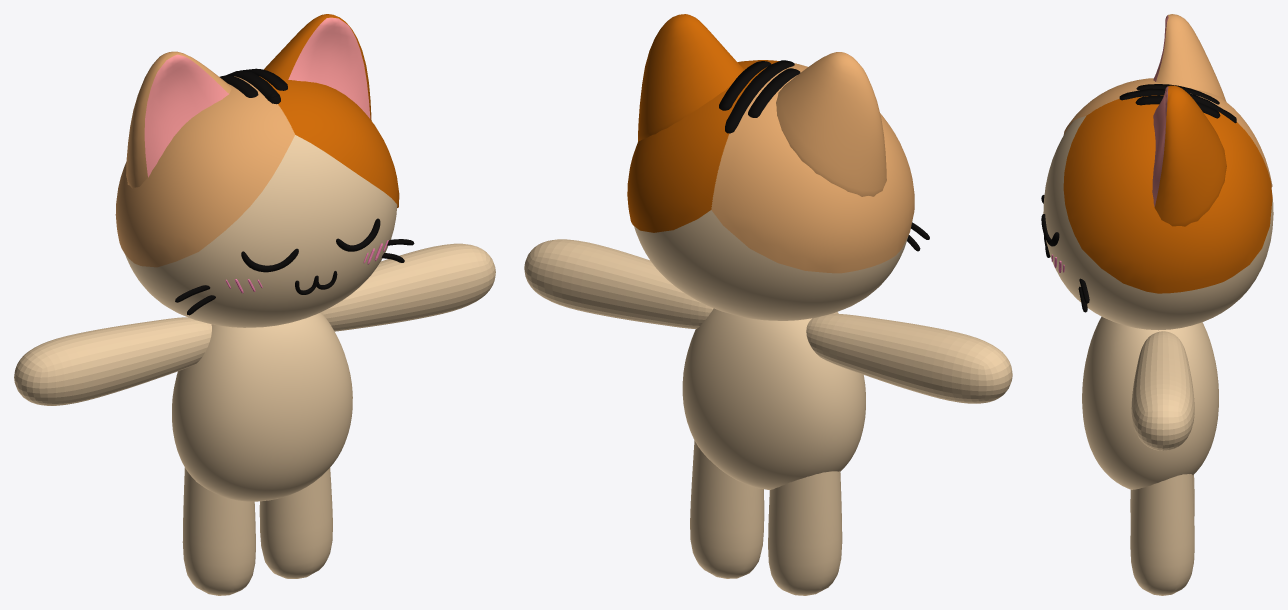
File: Gojil_The_Meow.fbx
3 renders of one model, left to right at view 1: azimuth 30°, elevation 25°; view 2: azimuth 150°, elevation 25°; view 3: azimuth 270°, elevation 25°, orthographic. The views are drawn at different scales.
Parts seen in each view (by area): view 1: body, head, Cube.001, head.006, legs, ears.001, head.007, ears, ears.002, eyes, Cube.004, head.003; view 2: body, Cube.001, head.006, legs, head, ears, head.007, ears.002, head.003, head.001, head.004; view 3: head.007, body, head, legs, ears.002, Cube.001, ears, head.006, ears.001, head.003, head.004, head.001.
Boxes of the visible parts, <box> form: body: <box>172,312,352,501</box>; head: <box>125,135,397,327</box>; Cube.001: <box>14,243,495,405</box>; head.006: <box>115,76,295,267</box>; legs: <box>182,467,332,595</box>; ears.001: <box>144,17,370,177</box>; head.007: <box>259,76,399,207</box>; ears: <box>126,51,231,188</box>; ears.002: <box>264,14,371,120</box>; eyes: <box>241,218,380,272</box>; Cube.004: <box>175,239,414,315</box>; head.003: <box>225,70,280,104</box>; body: <box>682,308,865,489</box>; Cube.001: <box>524,239,1012,403</box>; head.006: <box>711,63,914,273</box>; legs: <box>690,440,842,595</box>; head: <box>634,210,908,320</box>; ears: <box>776,52,886,196</box>; head.007: <box>627,60,796,232</box>; ears.002: <box>638,14,744,141</box>; head.003: <box>725,60,794,133</box>; head.001: <box>748,68,800,117</box>; head.004: <box>719,61,771,110</box>; head.007: <box>1063,95,1272,293</box>; body: <box>1082,316,1218,489</box>; head: <box>1043,116,1273,330</box>; legs: <box>1130,474,1194,595</box>; ears.002: <box>1154,85,1226,226</box>; Cube.001: <box>1131,331,1194,450</box>; ears: <box>1156,14,1226,101</box>; head.006: <box>1063,78,1272,187</box>; ears.001: <box>1152,15,1168,206</box>; head.003: <box>1119,88,1236,123</box>; head.004: <box>1135,95,1220,118</box>; head.001: <box>1136,84,1219,104</box>.
Size of the model in its own units: 330 by 364 by 147.
